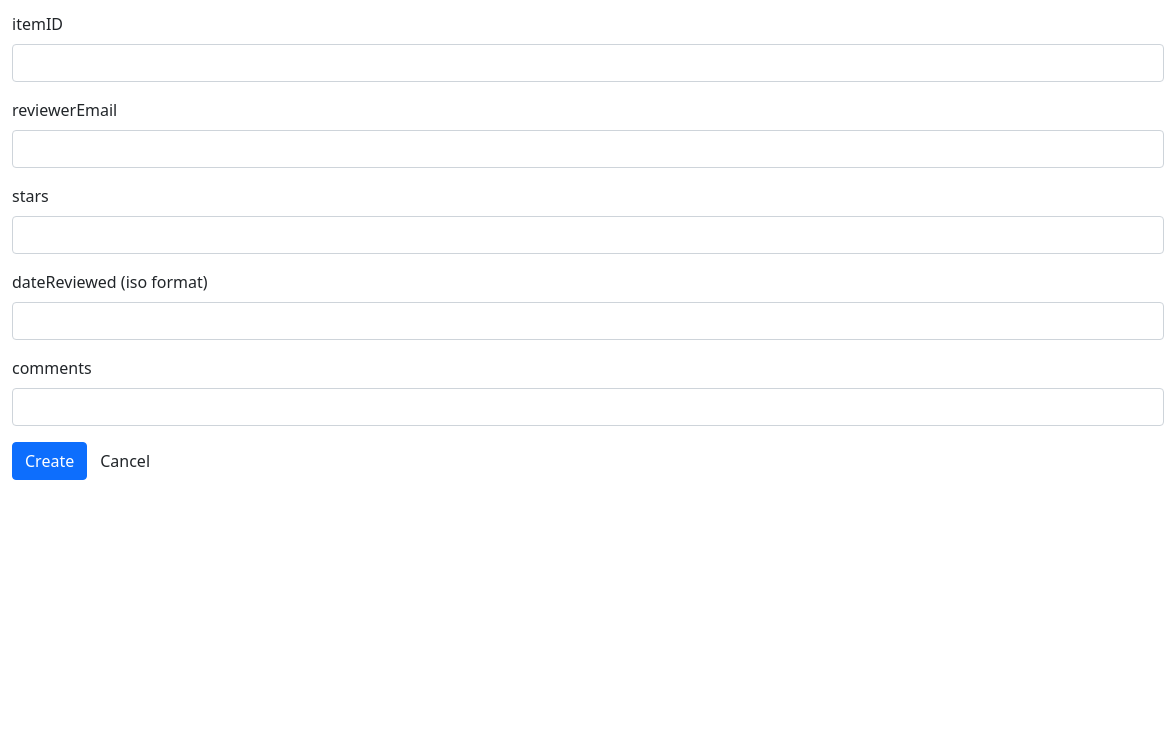
Test case: ReviewForm tests › Correct Error messsages on bad input
Type "bad-input" into the field with test id "ReviewForm-dateReviewed".
click(588, 321); type("bad-input")  # box [12,302,1164,340]
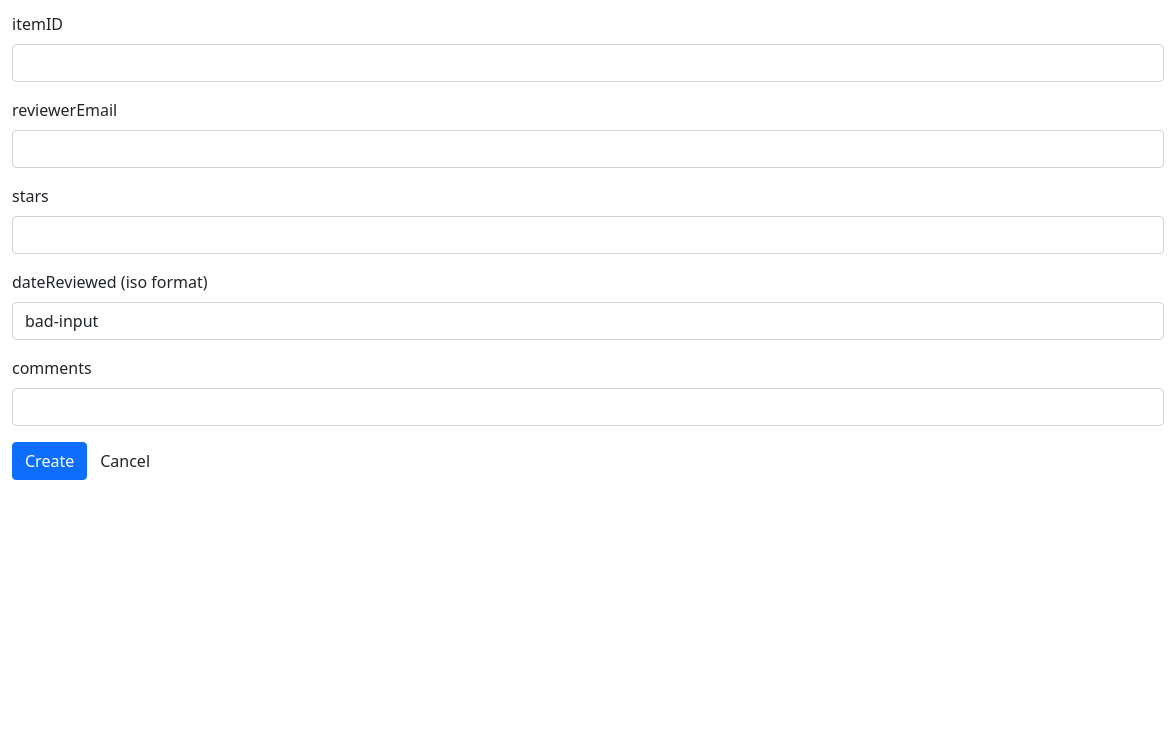
Click the button with test id "ReviewForm-submit".
click(50, 461)  # box [12,442,87,480]
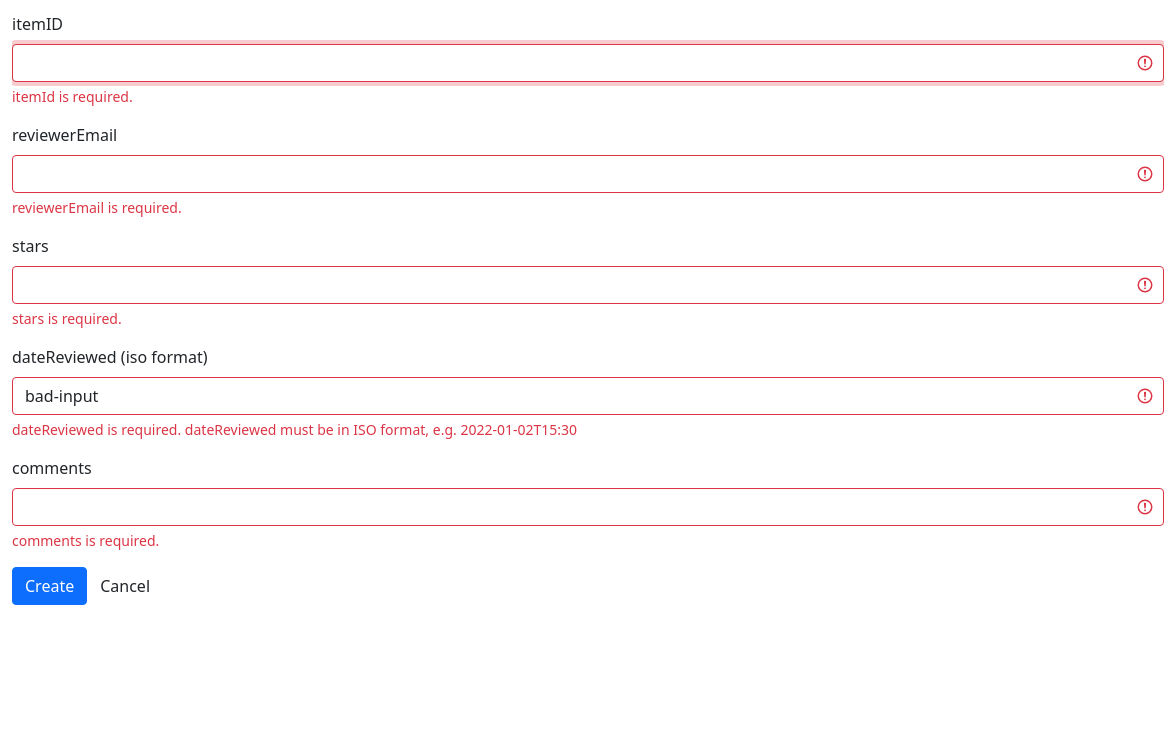
Expected: the text "dateReviewed must be in ISO format" is shown, [185,420,577,439]
